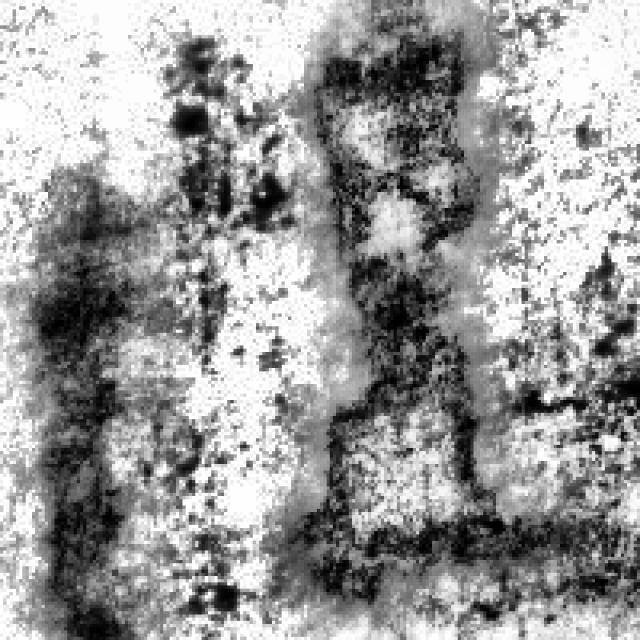Scratches: (301, 0, 544, 614), (22, 176, 138, 634)
